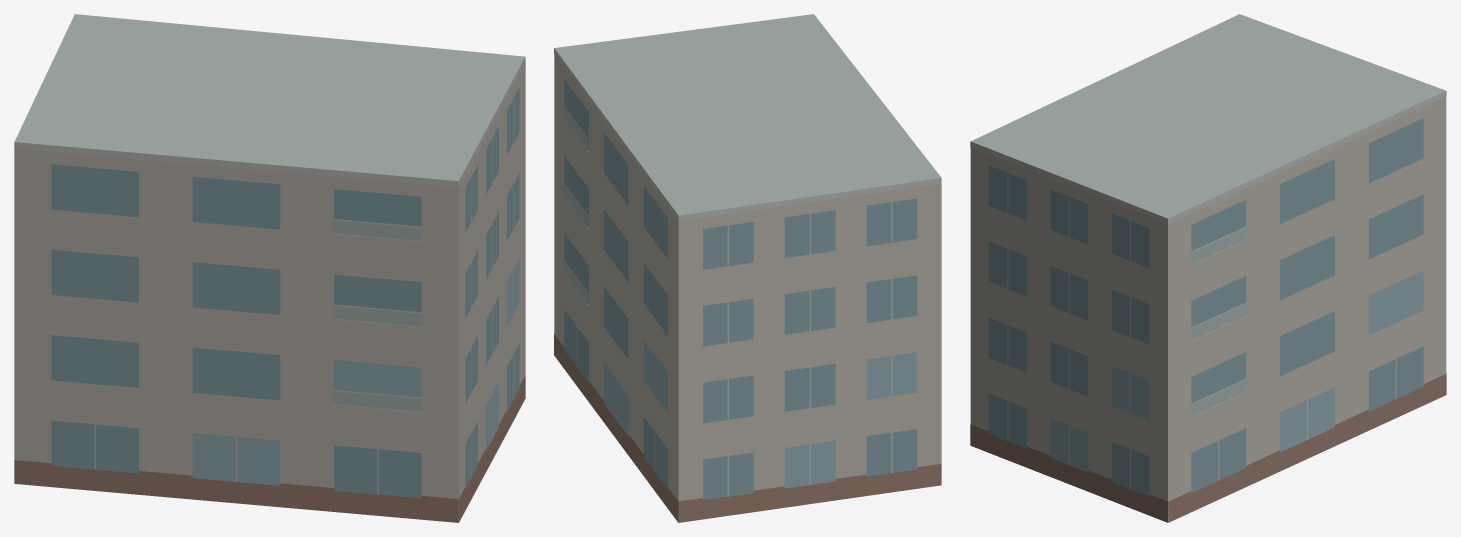
The model's file is survey-upis-32607159.glb.
3 views of the same model, side by side, from view 1: azimuth 30°, elevation 25°; view 2: azimuth 150°, elevation 25°; view 3: azimuth 270°, elevation 25° (orthographic). The views are drawn at different scales.
Parts seen in each view (by area): view 1: survey-upis-32607159.tmp; view 2: survey-upis-32607159.tmp; view 3: survey-upis-32607159.tmp.
Boxes of the visible parts, <box> form: survey-upis-32607159.tmp: <box>14,14,525,522</box>; survey-upis-32607159.tmp: <box>554,14,941,522</box>; survey-upis-32607159.tmp: <box>970,14,1446,522</box>.
Size of the model in its own units: 18.61 by 12.9 by 18.29.
